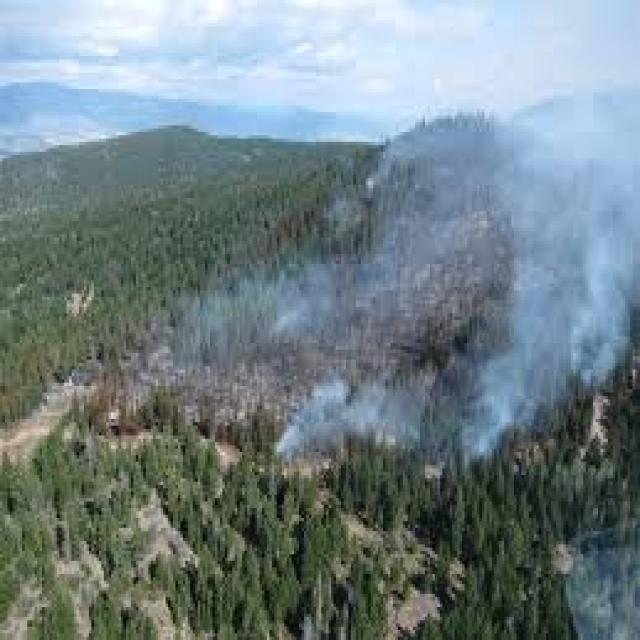Smoke: (270, 58, 640, 482), (264, 346, 640, 492), (166, 248, 640, 356)
